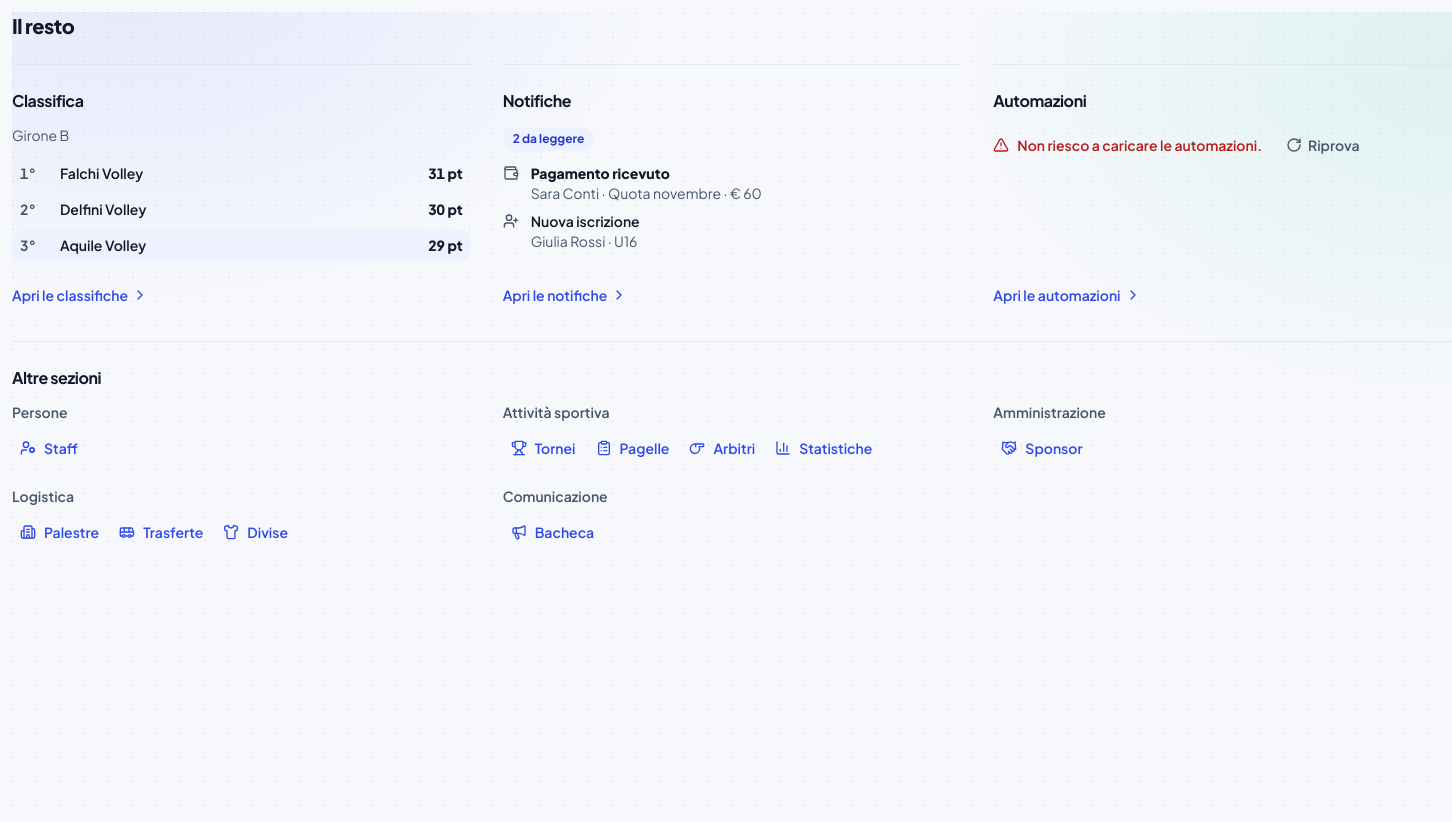
Test: RestSection › fails one block at a time and retries only that block
expect the message shows "Non riesco a caricare le automazioni": met, box [993,125,1372,165]
expect the text "Falchi Volley" is shown: met, box [60,164,143,182]
Step 1. Click the button "Riprova" → (1323, 145), box [1274,125,1372,165]
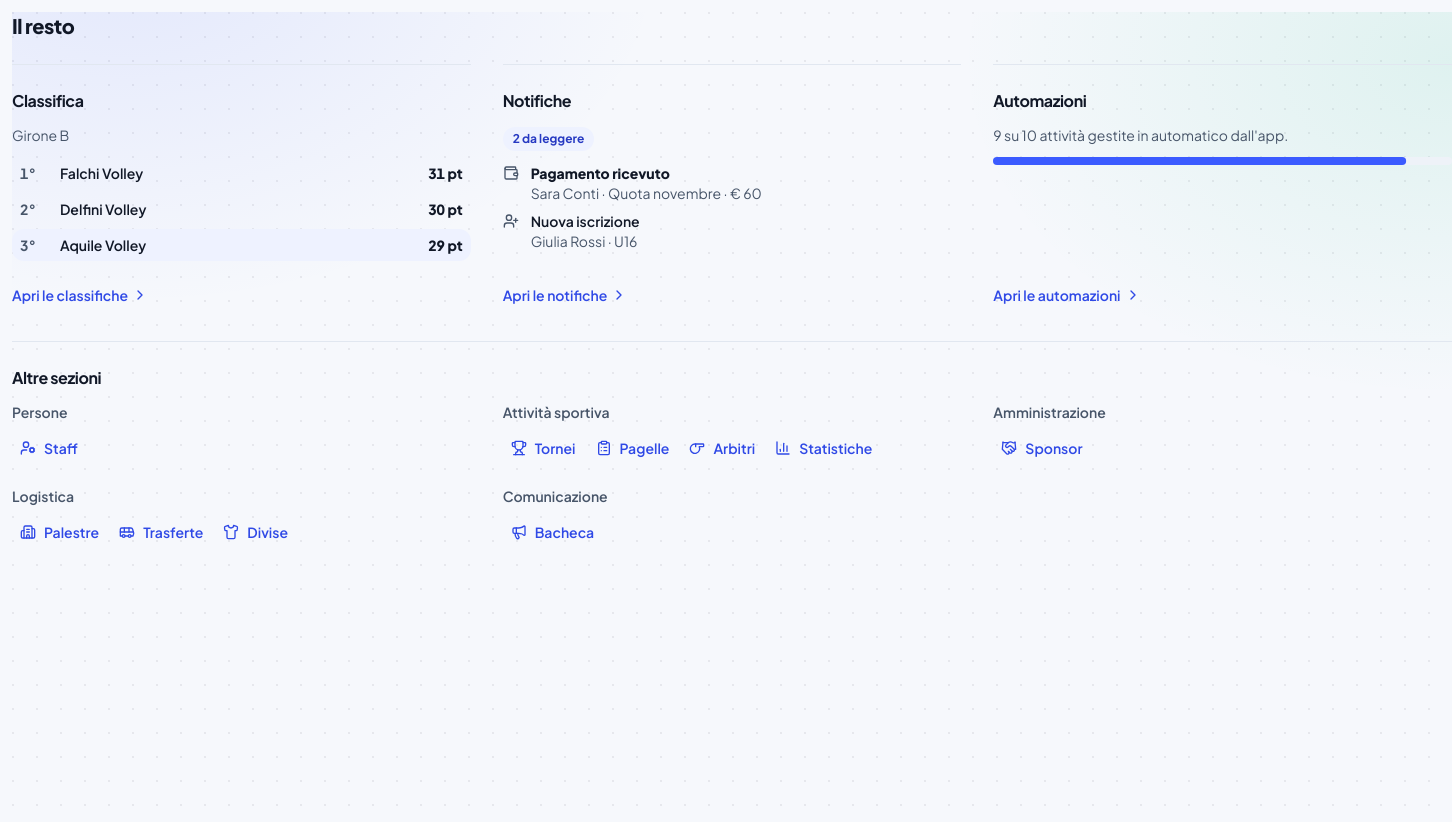
expect the text "9 su 10 attività gestite in automatico dall'app." is shown: met, box [993,126,1288,144]
expect the message "Non riesco a caricare le automazioni. Riprova" is gone: met
